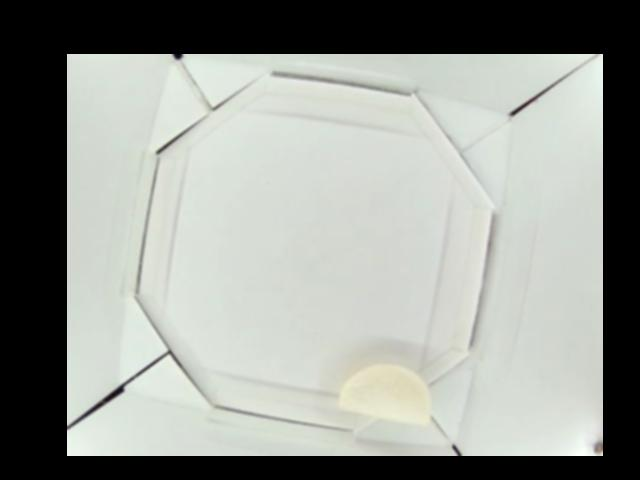Mooli: (338, 363, 429, 424)
